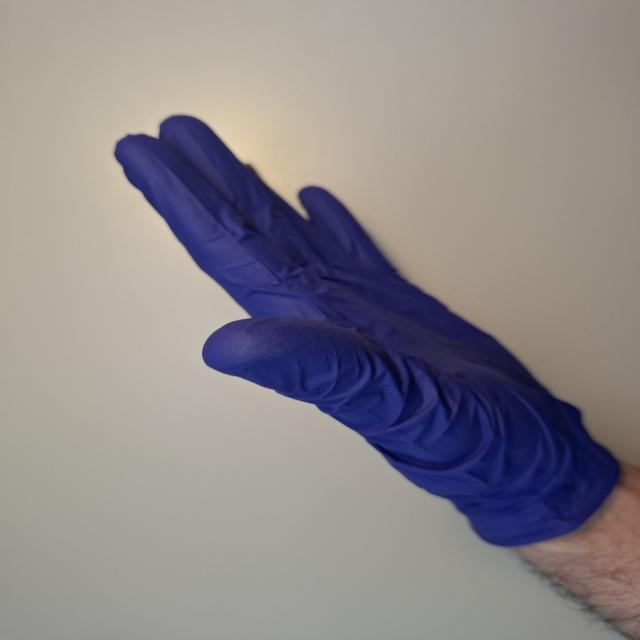glove_on: (110, 111, 615, 549)
